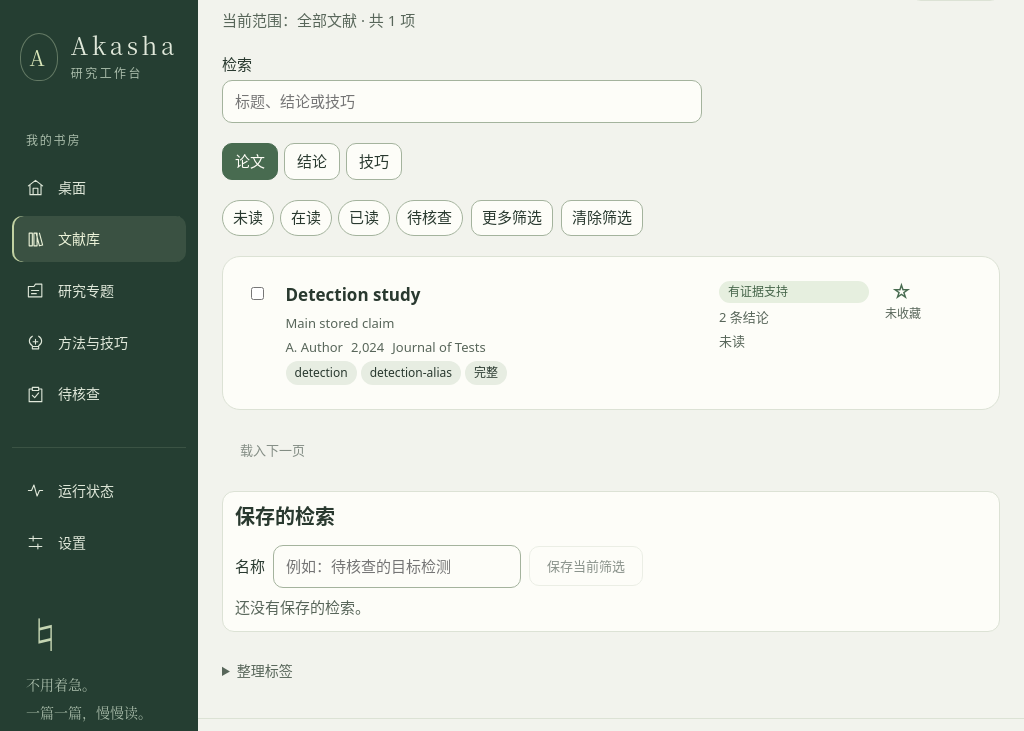
it: UX-044 saved searches and tag actions recover from conflicts › reports the applied count and that evidence text was not modified
The image size is (1024, 731).
(page scrolled)
Check: the link "Detection study" is shown, box [286, 282, 420, 306]
Click the heading "整理标签" at {"x": 265, "y": 671}, box [237, 661, 293, 680]
(page scrolled)
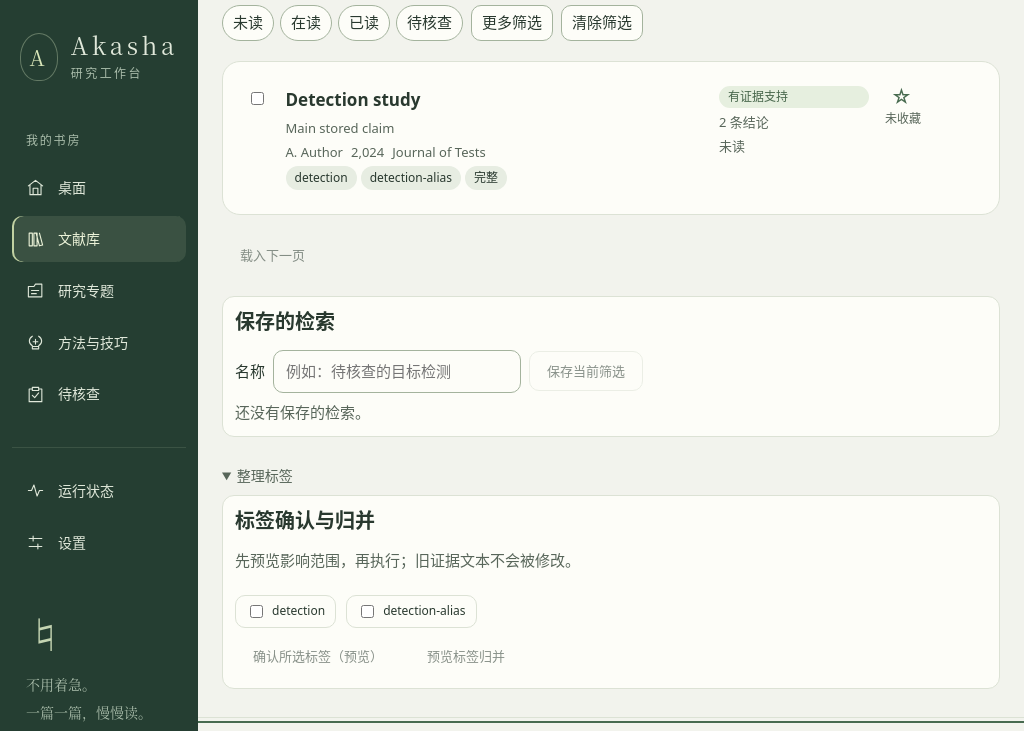
Click the checkbox labelled "detection" at {"x": 256, "y": 612}, box [250, 605, 263, 618]
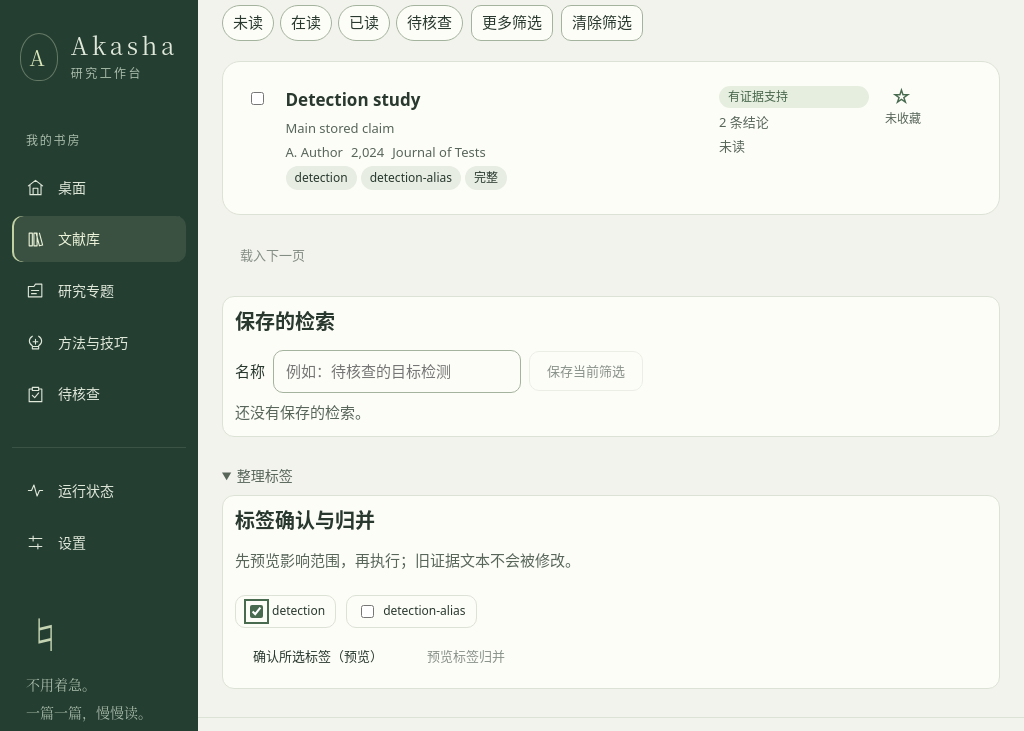
Click the checkbox labelled "detection-alias" at {"x": 368, "y": 612}, box [361, 605, 374, 618]
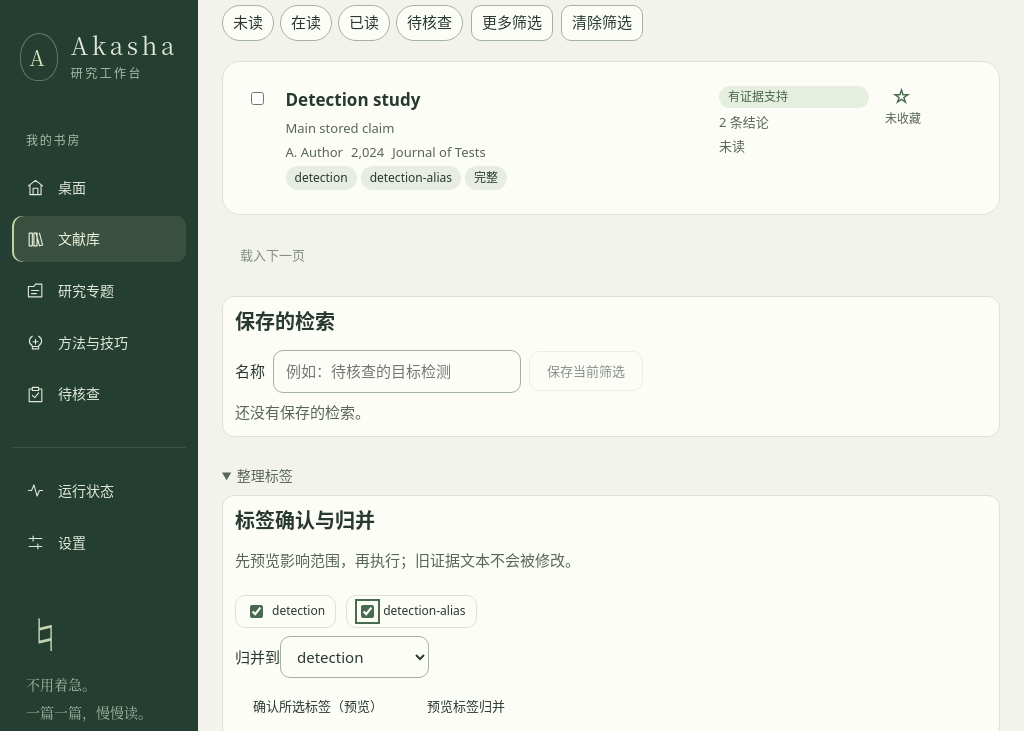
Click the button "确认所选标签（预览）" at {"x": 318, "y": 706}, box [235, 686, 401, 726]
(page scrolled)
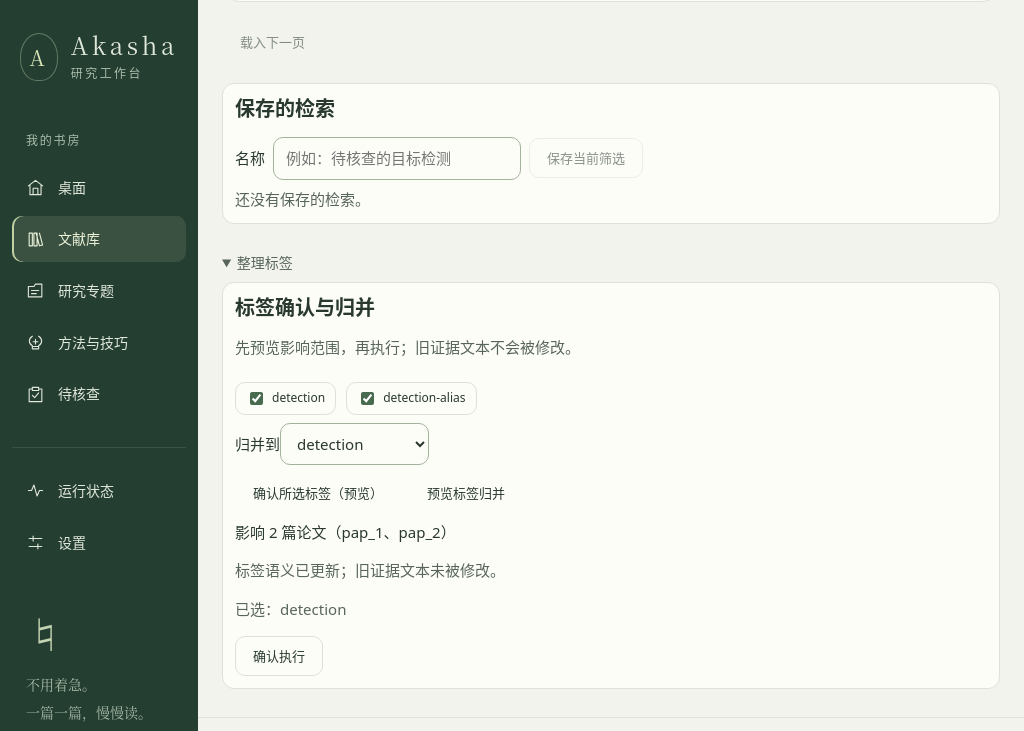
Click the button "确认执行" at {"x": 279, "y": 656}, box [235, 636, 323, 676]
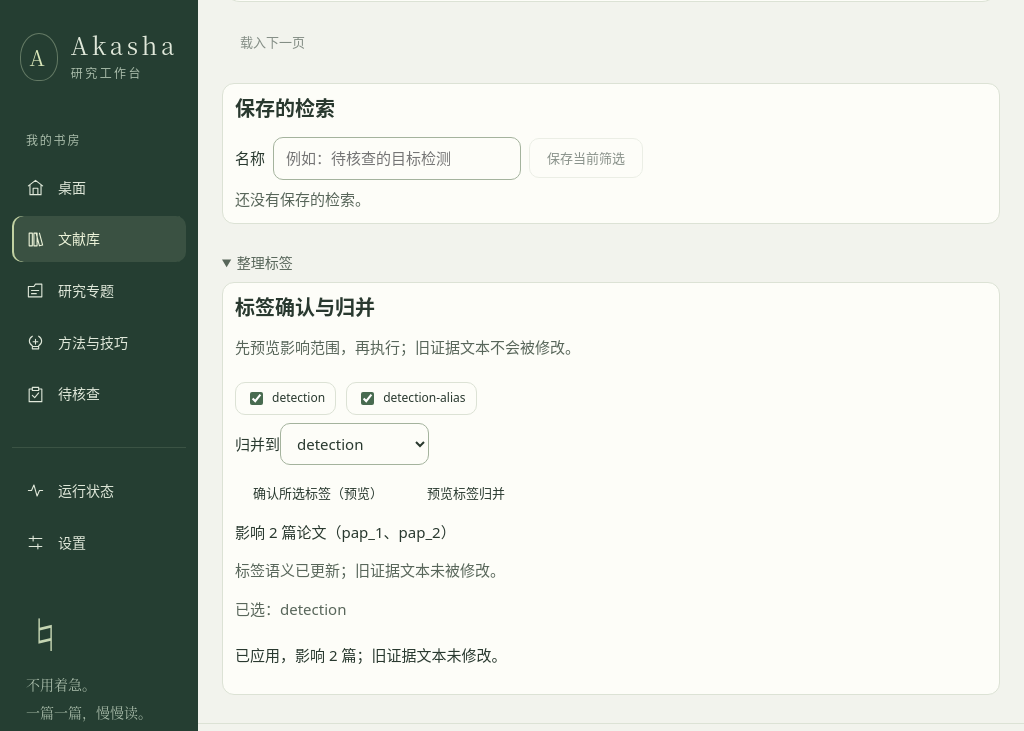
Check: the message with test id "tag-applied" shows "影响 2 篇", box [235, 645, 506, 665]
Check: the message with test id "tag-applied" shows "旧证据文本未修改", box [338, 645, 506, 665]
